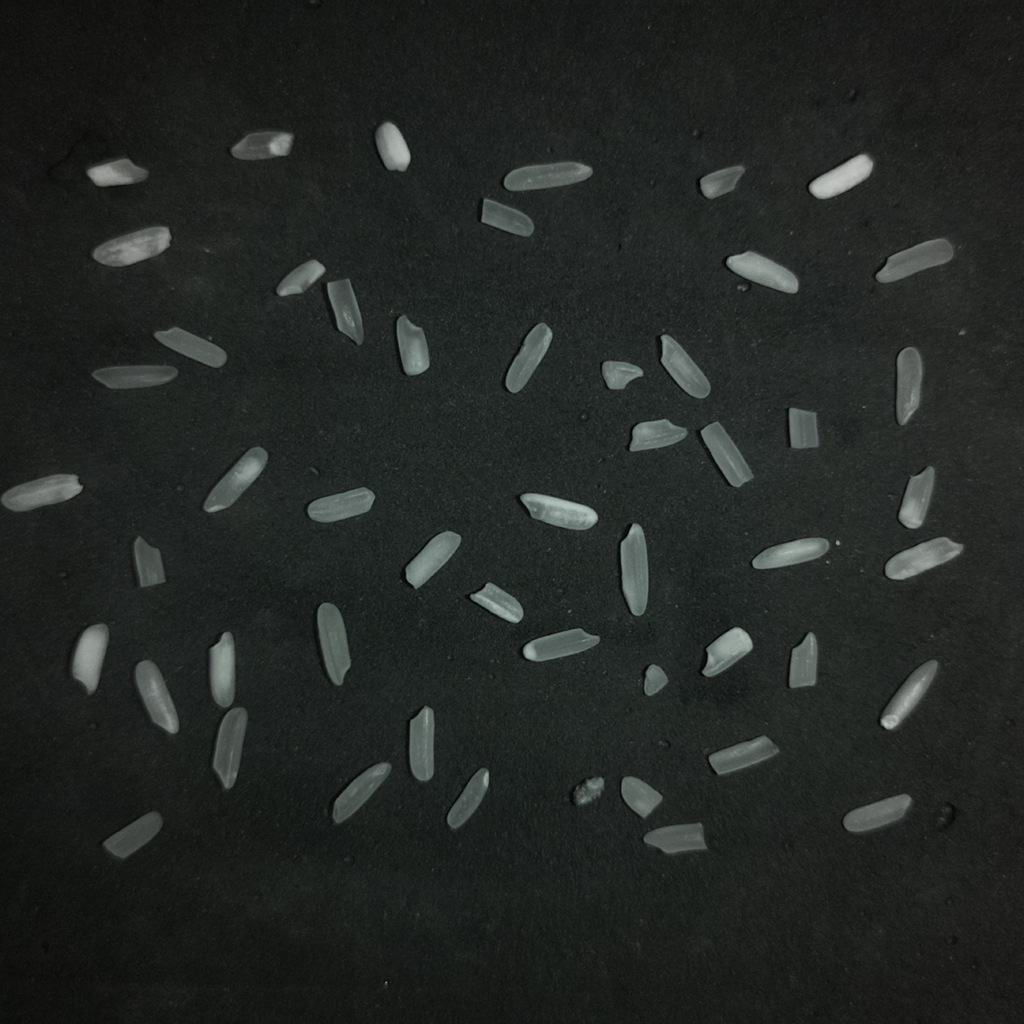broken: (700, 421, 752, 486), (505, 322, 552, 393), (103, 811, 162, 859), (708, 735, 778, 774), (326, 279, 363, 344), (307, 487, 374, 522), (898, 466, 934, 528), (643, 823, 707, 855), (480, 198, 533, 236), (629, 419, 687, 451), (230, 131, 293, 160), (620, 776, 662, 817), (133, 536, 165, 587), (788, 632, 817, 687), (698, 165, 745, 198), (788, 407, 818, 448), (601, 360, 643, 389)
chalky: (880, 660, 938, 729), (885, 537, 963, 580), (405, 531, 460, 588), (92, 226, 170, 266), (0, 473, 82, 511), (725, 251, 798, 293), (808, 153, 873, 199), (520, 492, 597, 530), (71, 624, 109, 695), (702, 627, 752, 676), (751, 538, 829, 569), (469, 582, 523, 622), (208, 632, 235, 707), (396, 315, 428, 375), (276, 259, 325, 296), (87, 157, 148, 186), (643, 664, 667, 695)
foreign: (376, 122, 410, 171), (572, 776, 604, 805)
whole: (203, 446, 267, 512), (332, 762, 391, 824), (875, 239, 953, 282), (134, 660, 178, 733), (660, 334, 710, 398), (212, 707, 248, 790), (154, 326, 226, 367), (317, 602, 350, 685), (843, 794, 912, 833), (446, 768, 488, 830), (620, 523, 648, 616), (503, 161, 592, 190), (522, 628, 599, 661), (895, 347, 923, 425), (91, 366, 177, 389), (408, 706, 434, 781)
